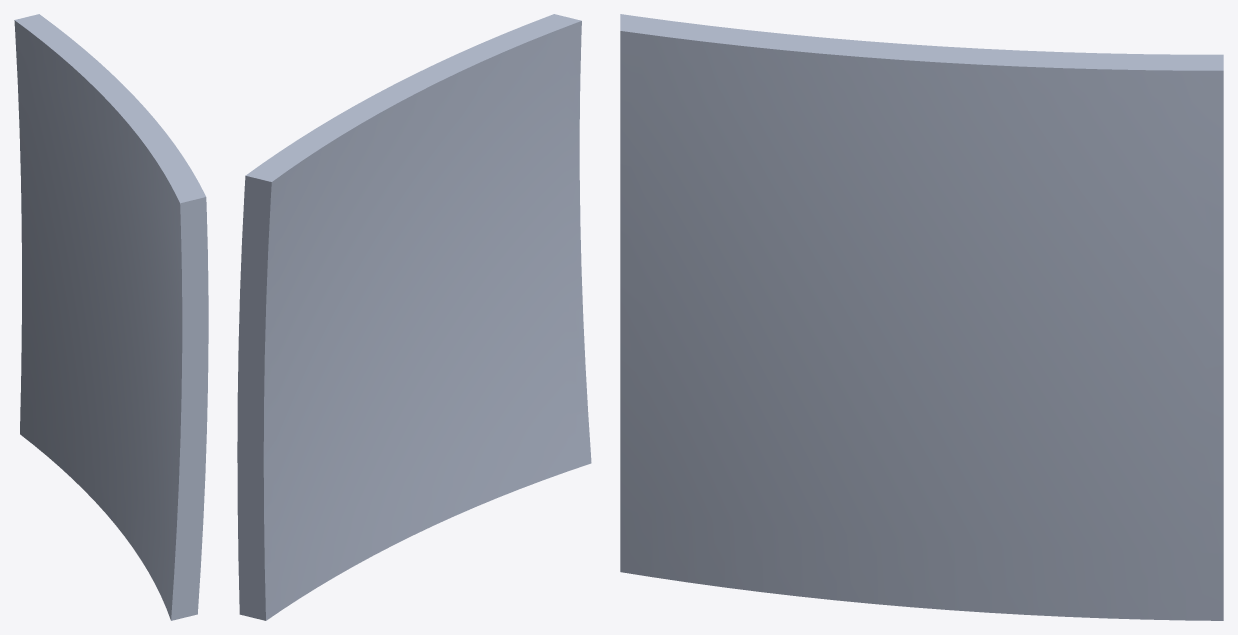
File: UA_26EV_TopSeatMounting__UA_26EV_TopSeatMounting_BackingPlate_1.dae
3 views of the same model, side by side, from view 1: azimuth 30°, elevation 25°; view 2: azimuth 150°, elevation 25°; view 3: azimuth 270°, elevation 25° (orthographic). The views are drawn at different scales.
Parts seen in each view (by area): view 1: node0; view 2: node0; view 3: node0.
Part boxes in pixels (x1=…): node0: x1=14, y1=14, x2=208, y2=620; node0: x1=237, y1=14, x2=591, y2=620; node0: x1=620, y1=14, x2=1223, y2=620.
Size of the model in its own units: 0.0134 by 0.0508 by 0.0508.
